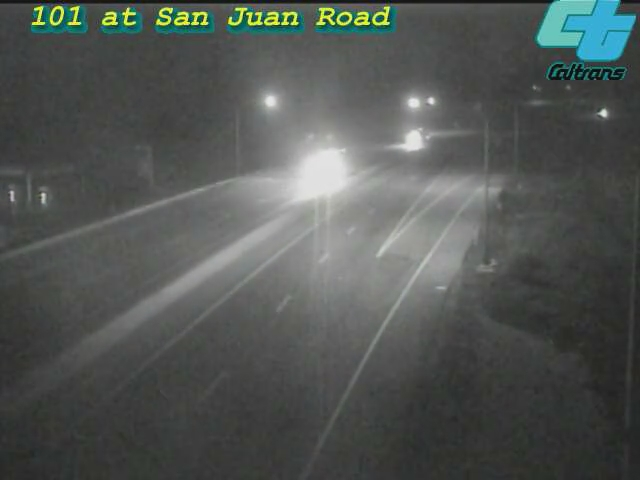vehicle: (276, 127, 356, 207), (389, 116, 439, 166), (581, 88, 631, 138)
